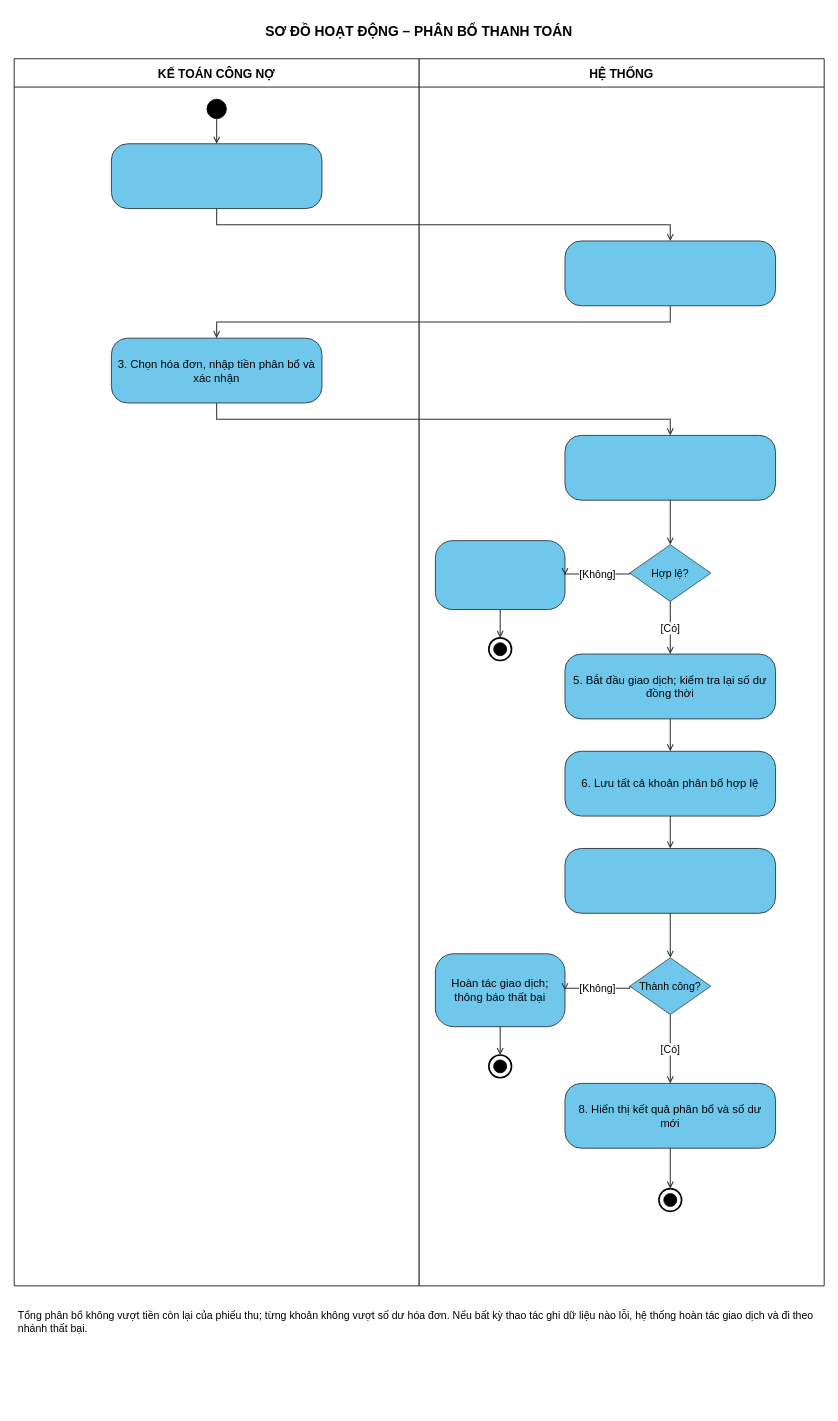
This 838x1421 diagram has some shape labels left out. Each missing label, with the centre of its shape:
1. Chọn phiếu thu đã xác nhận còn tiền chưa phân bổ: the point at 216,176
2. Hiển thị hóa đơn còn công nợ của cùng khách hàng: the point at 670,273
4. Kiểm tra cùng khách hàng, số tiền dương và các giới hạn số dư: the point at 670,467
7. Cập nhật số dư và trạng thái; ghi nhật ký; xác nhận giao dịch: the point at 670,880
Từ chối phân bổ; yêu cầu điều chỉnh hoặc tải lại số dư: the point at 499,575
